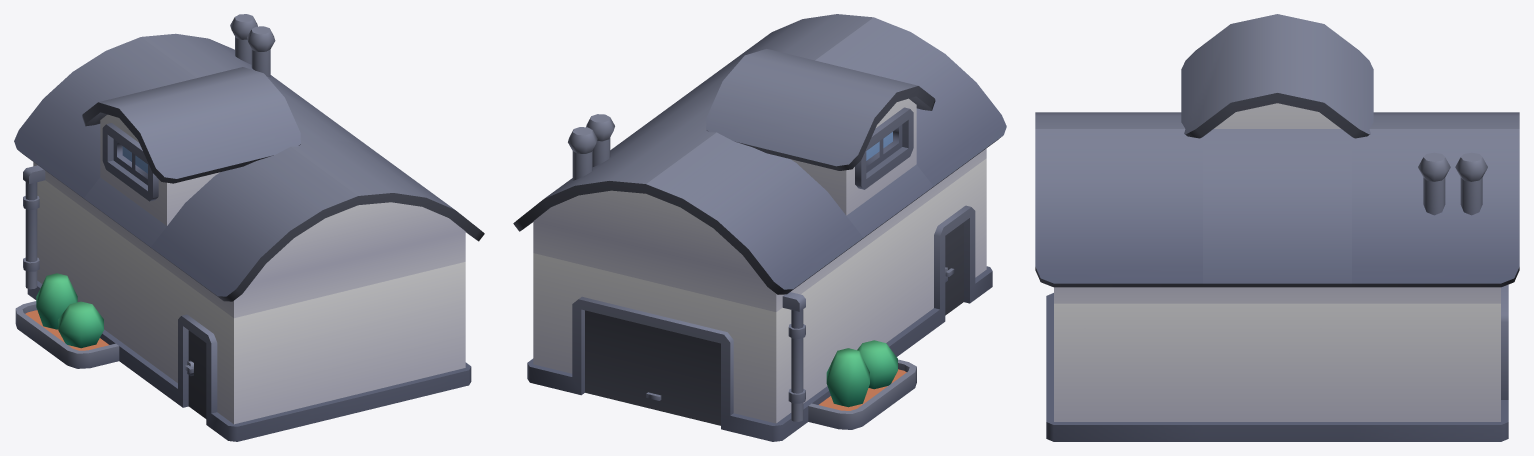
File: building-j_lev1.glb
The picture shows the model from 3 angles, left to right: view 1: azimuth 30°, elevation 25°; view 2: azimuth 150°, elevation 25°; view 3: azimuth 270°, elevation 25°; orthographic projection. The views are drawn at different scales.
Visible parts, largest first — view 1: building-j_lev1; view 2: building-j_lev1; view 3: building-j_lev1.
Boxes of the visible parts, x1,y1,x2,y2 form: building-j_lev1: (14,14,484,441); building-j_lev1: (513,14,1006,441); building-j_lev1: (1035,14,1519,441).
Bounding box in the file's own units: 1.03 × 0.8611 × 1.3.
Materials: 1 (1 with a texture image).
